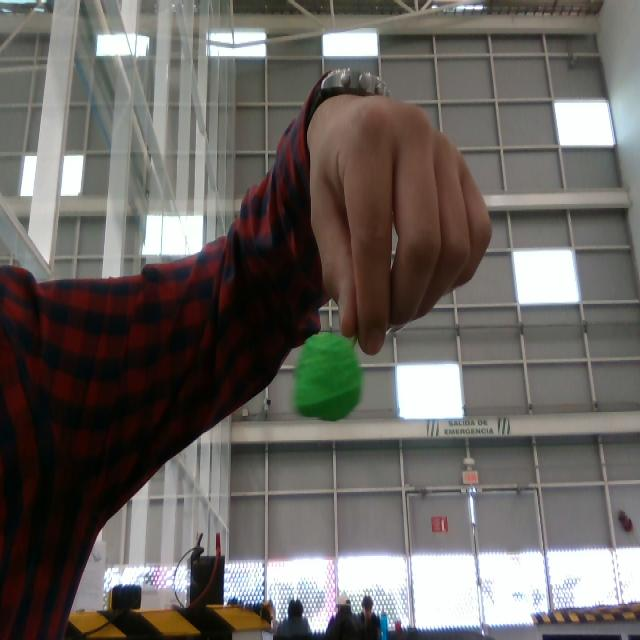verde: (290, 332, 364, 422)
